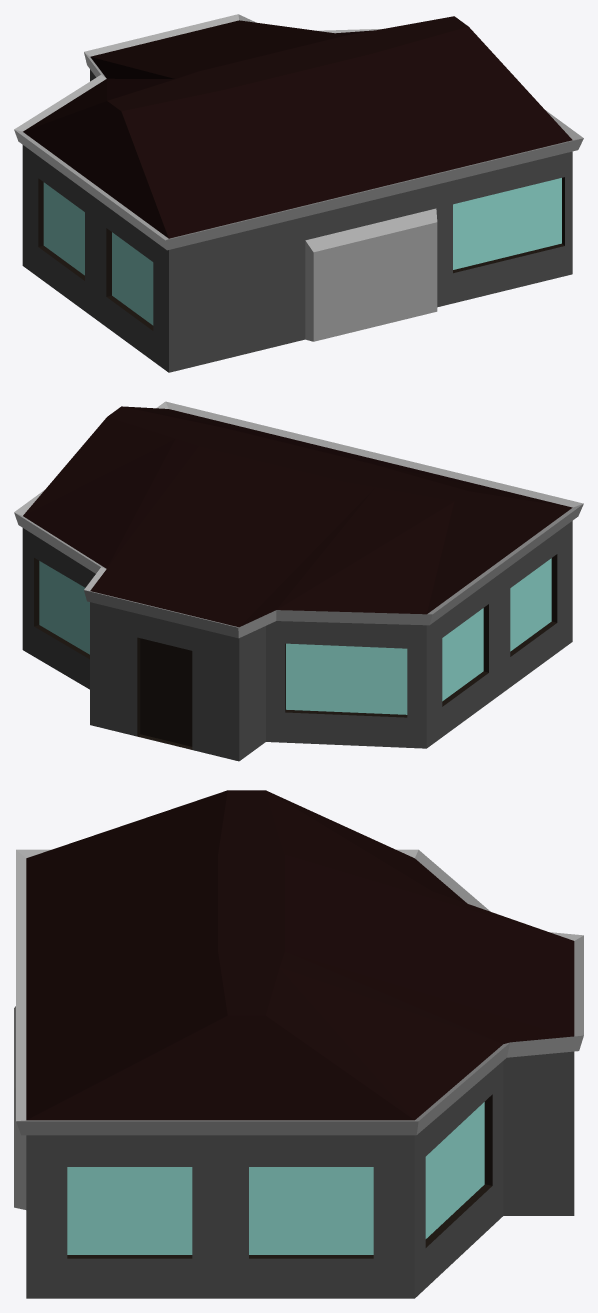
File: fase1_casa1.fbx
3 renders of one model, top to bottom at view 1: azimuth 30°, elevation 25°; view 2: azimuth 150°, elevation 25°; view 3: azimuth 270°, elevation 25°, orthographic. The views are drawn at different scales.
Parts seen in each view (by area): view 1: casa01; view 2: casa01; view 3: casa01.
Boxes of the visible parts, x1,y1,x2,y2 form: casa01: (14, 14, 583, 372); casa01: (14, 401, 583, 761); casa01: (14, 790, 583, 1298).
Size of the model in its own units: 116 by 52.63 by 103.
